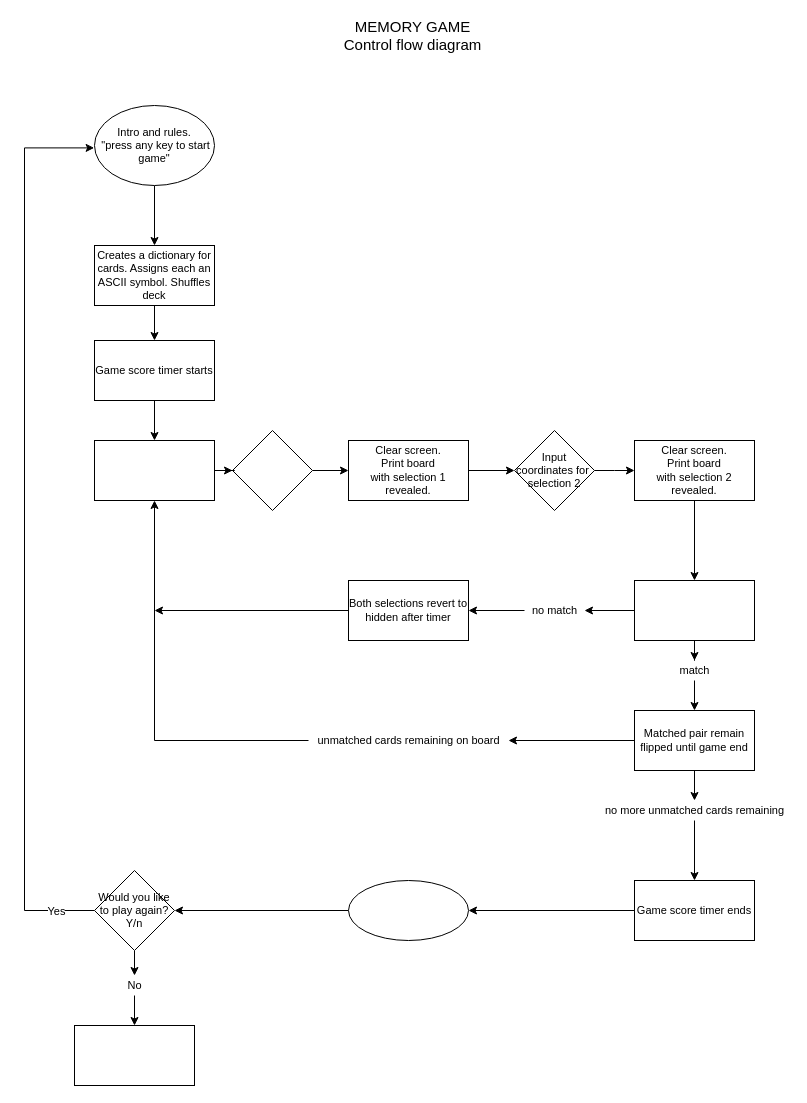
This 807x1103 diagram has some shape labels left out. The centre of each missing label's shape, as x and y in pixels:
2s round timer start. Add 1 to round score count: point (694, 610)
Application exits: point (134, 1055)
Game win. congratulations message displayed with scores: point (408, 910)
Input coordinates for selection 1: point (272, 470)
Print board with no selections revealed: point (154, 470)
